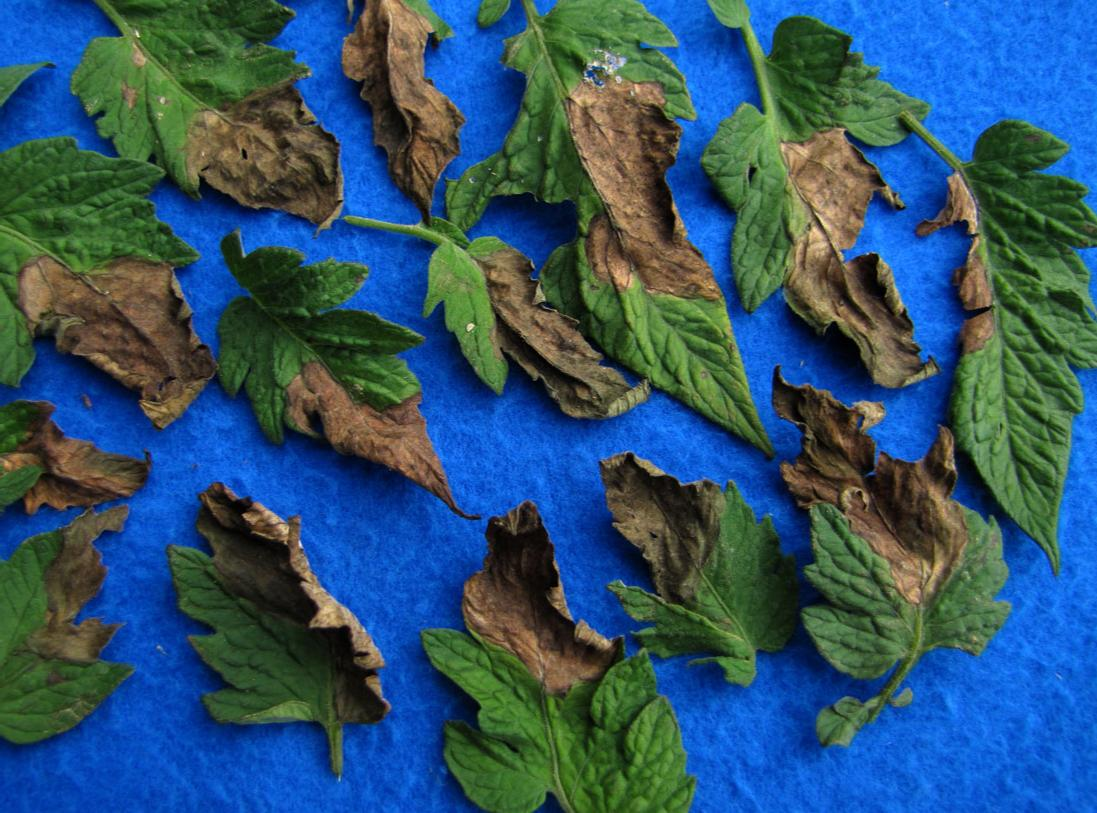Tomato leaf late blight: (514, 0, 756, 436), (761, 369, 1011, 741), (709, 0, 932, 396), (425, 508, 708, 813), (924, 103, 1097, 551), (162, 474, 403, 755), (43, 0, 346, 222), (203, 241, 454, 484), (566, 447, 829, 672), (381, 224, 653, 428), (0, 502, 130, 766), (0, 392, 157, 522)
